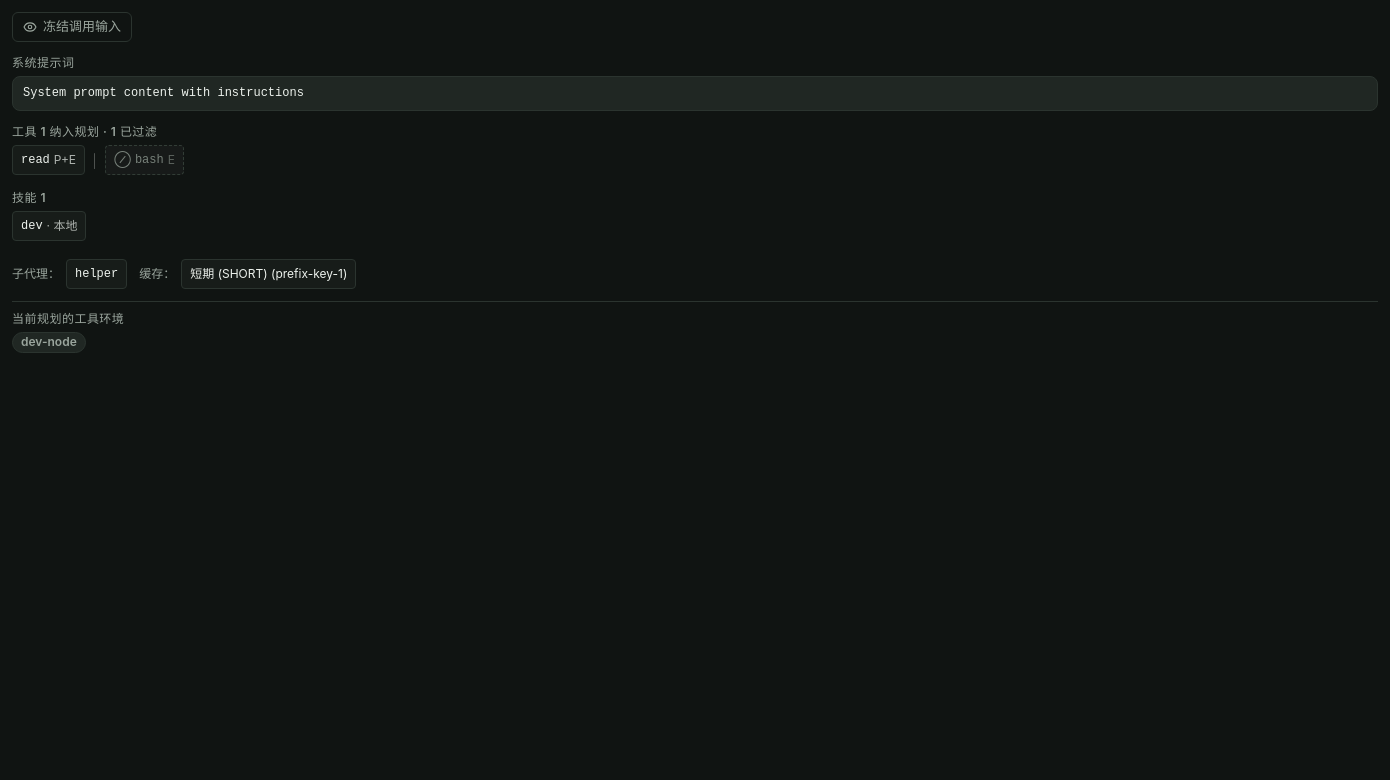
Test: ThreadModelRequestDebug & Inspector › opens tool inspector on tool chip click and shows details and schema (zh-CN)
Step 1. Click the button with aria-label "工具 read" → (49, 160), box [12,145,85,175]
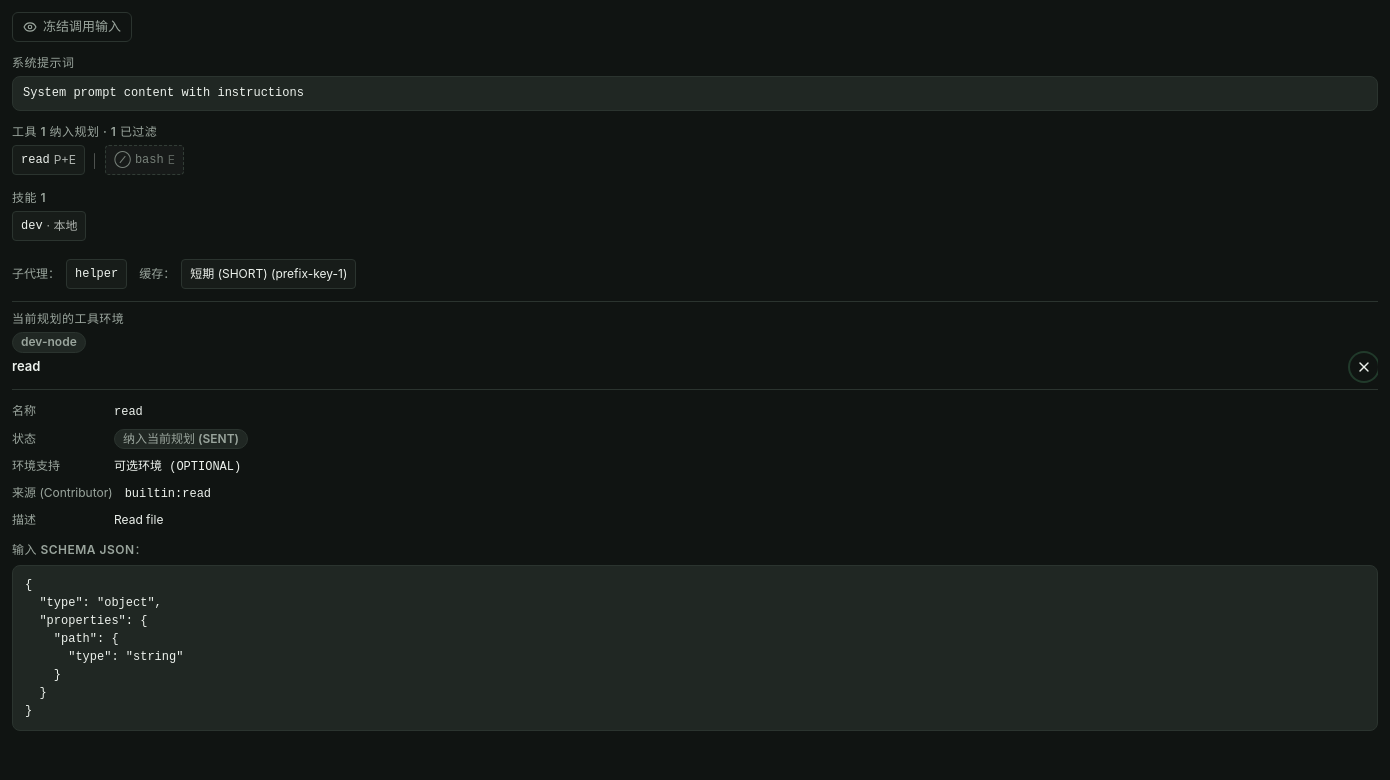
Expected: the heading "read" is shown, [12,357,40,376]
Expected: the text "名称" is shown, [12,403,36,418]
Expected: the text "纳入当前规划 (SENT)" is shown, [114,429,248,449]
Step 2. Click the button named "关闭检查器" → (1364, 367), box [1350,353,1378,381]
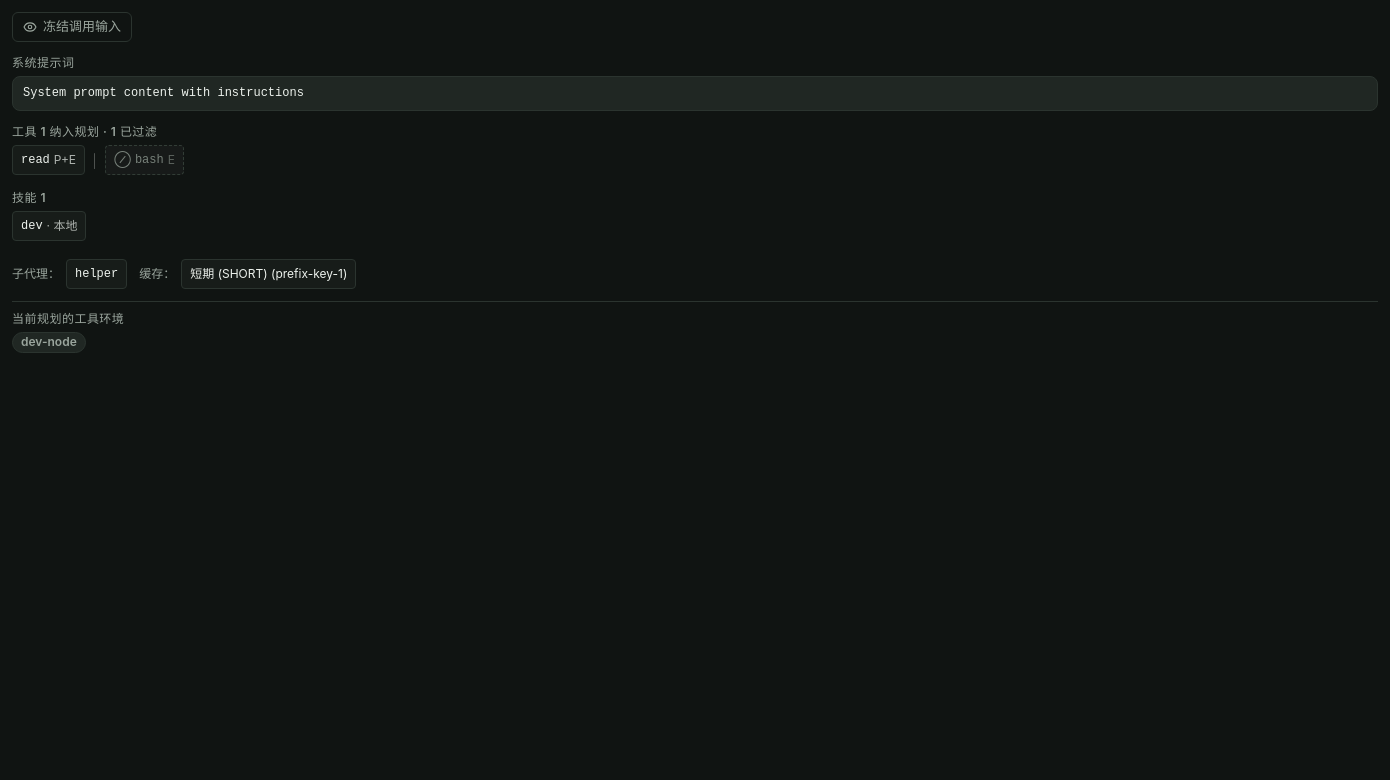
Expected: the element with test id "thread-debug-inspector" is gone
